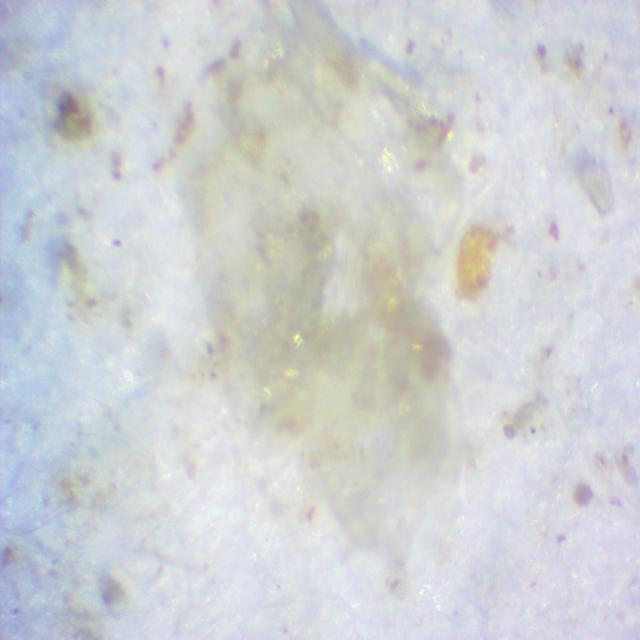microplastic: (182, 0, 472, 607)
